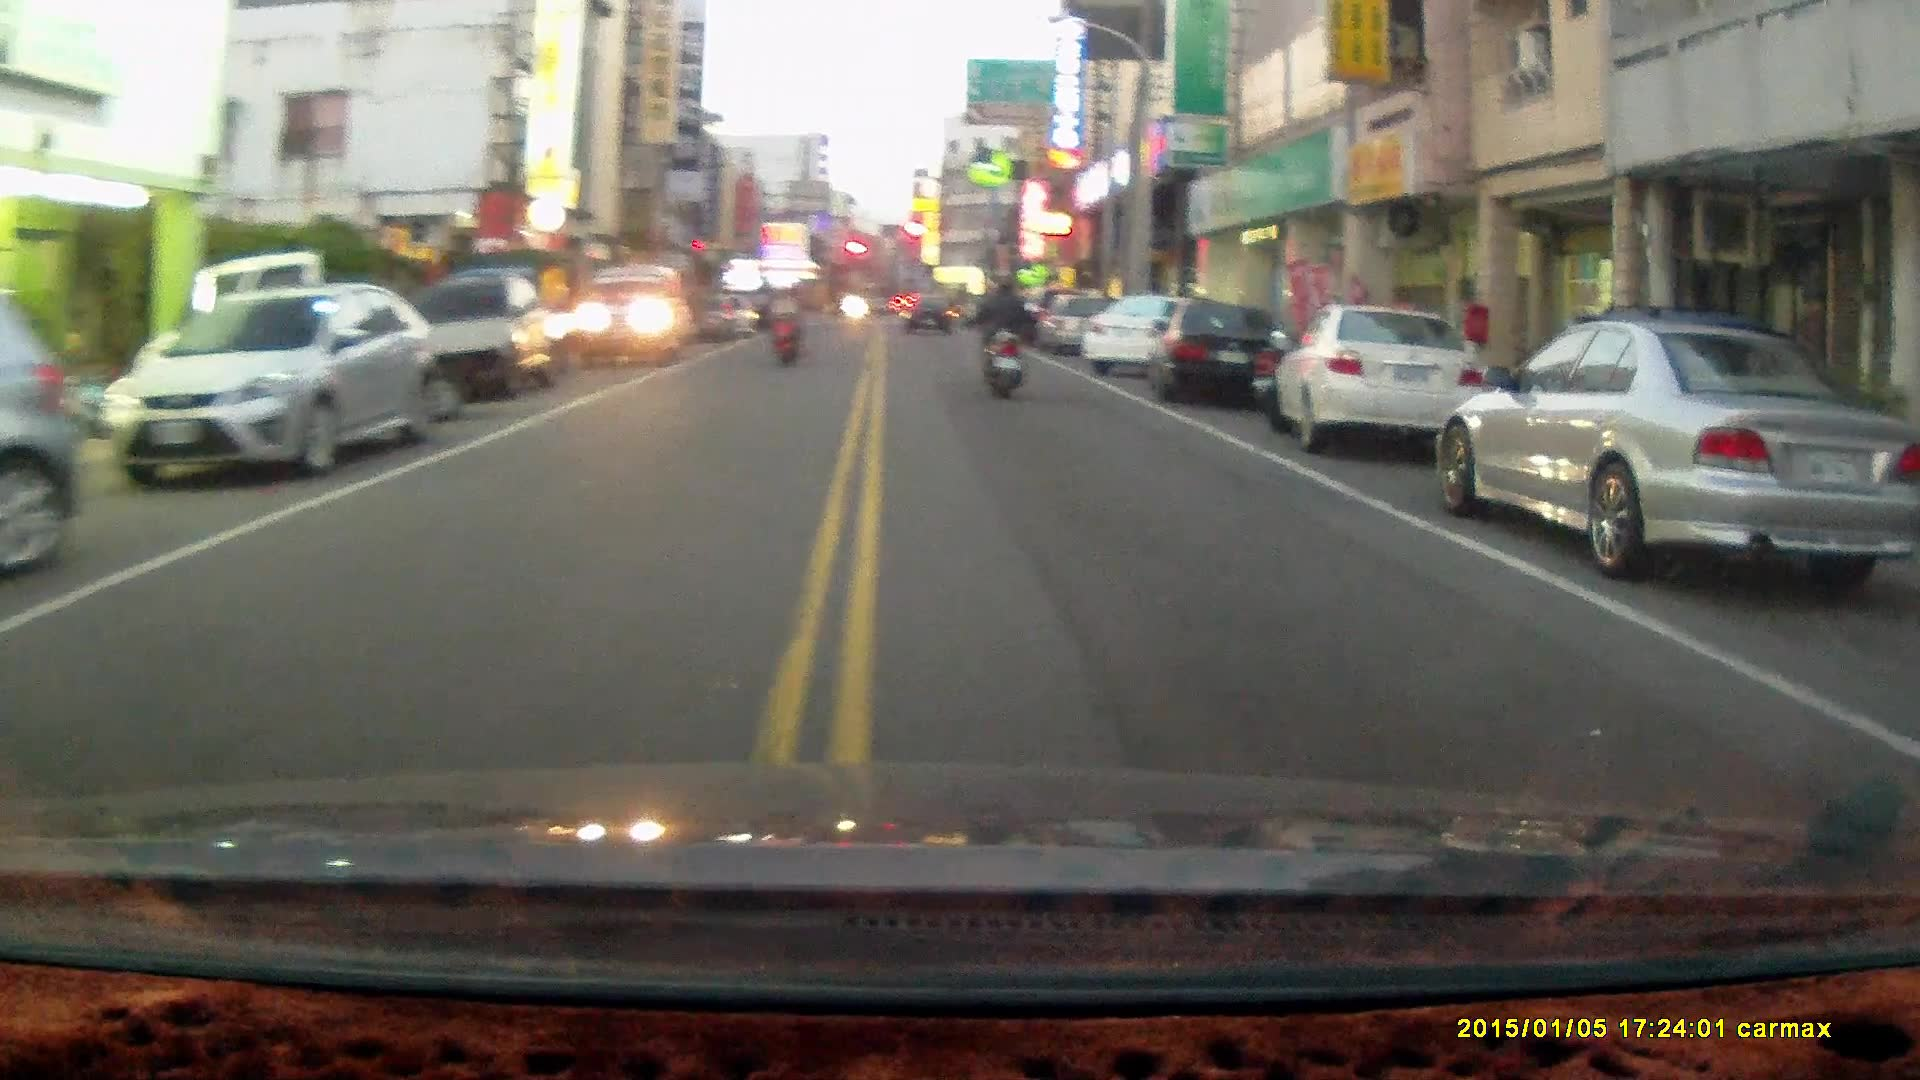rider: (970, 271, 1024, 399), (766, 284, 802, 366)
vehicle: (1443, 317, 1909, 588), (103, 282, 439, 481), (1265, 305, 1495, 455), (407, 270, 552, 405), (1153, 297, 1288, 408), (573, 262, 689, 369), (1078, 291, 1213, 376)
